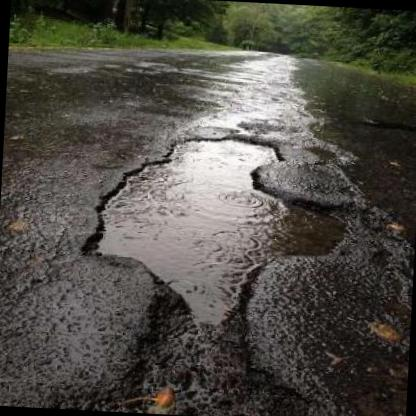pothole: (72, 123, 355, 328)
